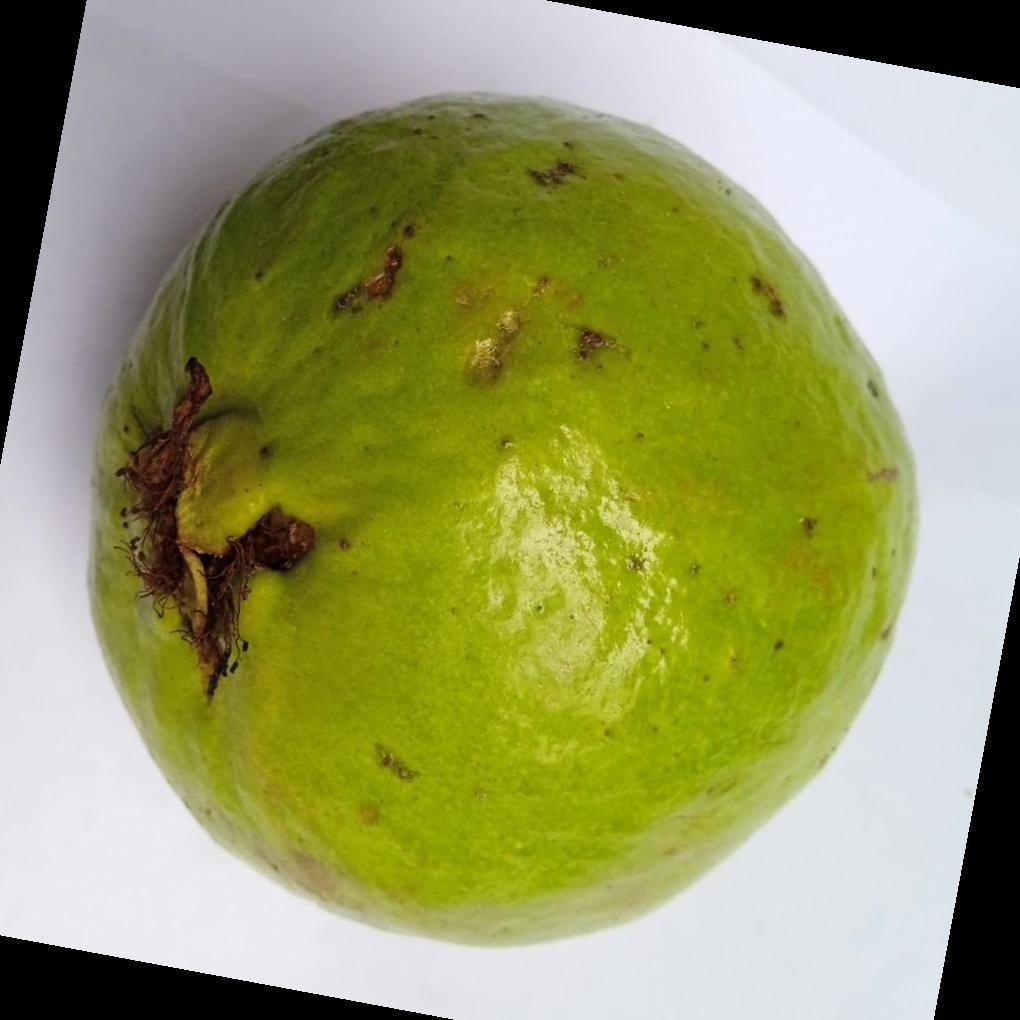FreshGuava: (85, 93, 921, 953)
